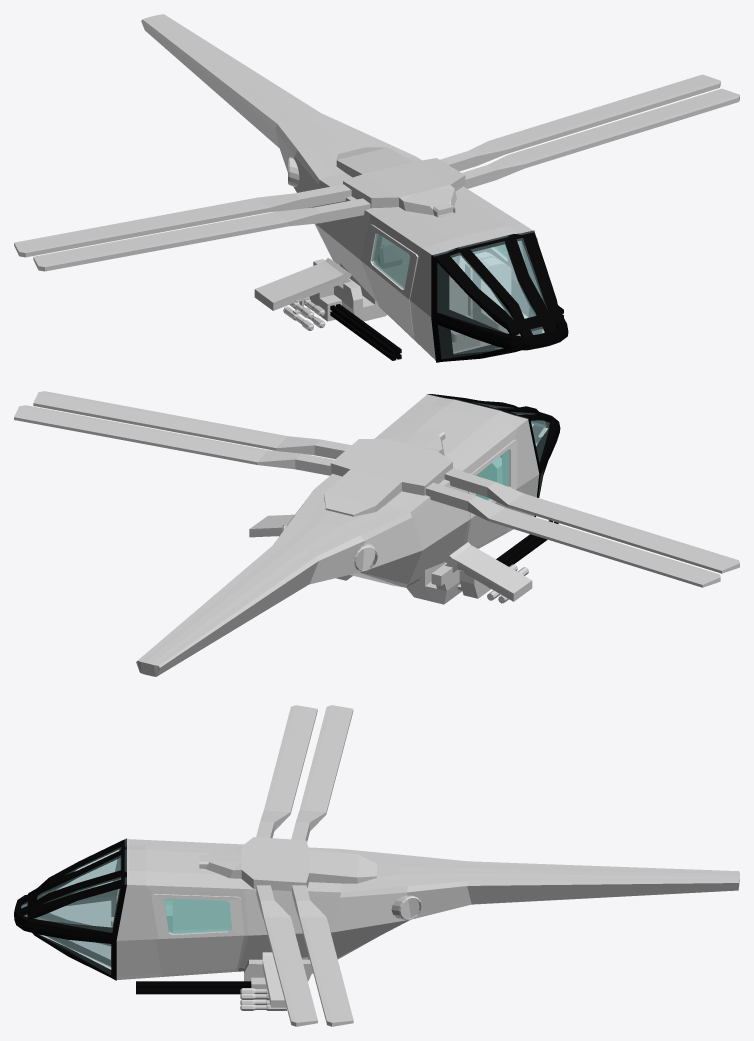
The model's file is dragonflymodern (1) 1.fbx.
The picture shows the model from 3 angles, top to bottom: view 1: azimuth 30°, elevation 25°; view 2: azimuth 150°, elevation 25°; view 3: azimuth 270°, elevation 25°; orthographic projection. The views are drawn at different scales.
Parts seen in each view (by area): view 1: Cube.041, cockpitframe, Cube.058, cockpit, backblade.001, forwardblade.001, forwardblade, backblade, Cube.016, door_right, Cube.053, barrel.001 (+2 smaller); view 2: Cube.041, Cube.058, backblade.001, forwardblade.001, backblade, forwardblade, Cube.016, cockpitframe, door_right, Cube.060, barrel.001, cockpit (+1 smaller); view 3: Cube.041, cockpitframe, Cube.058, door_left, cockpit, forwardblade, backblade, backblade.001, forwardblade.001, Cube.059, door_right, barrel (+1 smaller).
Boxes of the visible parts, left/top/right/bottom form: Cube.041: left=141, top=14, right=532, bottom=359; cockpitframe: left=431, top=230, right=568, bottom=362; Cube.058: left=336, top=147, right=465, bottom=217; cockpit: left=433, top=231, right=545, bottom=358; backblade.001: left=14, top=184, right=351, bottom=257; forwardblade.001: left=33, top=198, right=372, bottom=271; forwardblade: left=462, top=88, right=739, bottom=188; backblade: left=440, top=74, right=720, bottom=171; Cube.016: left=254, top=237, right=537, bottom=321; door_right: left=363, top=224, right=418, bottom=335; Cube.053: left=472, top=257, right=527, bottom=335; barrel.001: left=330, top=304, right=401, bottom=360; Cube.041: left=136, top=394, right=539, bottom=676; Cube.058: left=324, top=428, right=452, bottom=516; backblade.001: left=425, top=482, right=720, bottom=587; forwardblade.001: left=444, top=468, right=739, bottom=573; backblade: left=14, top=405, right=334, bottom=475; forwardblade: left=33, top=391, right=351, bottom=458; Cube.016: left=249, top=514, right=532, bottom=604; cockpitframe: left=427, top=394, right=560, bottom=516; door_right: left=466, top=439, right=517, bottom=547; Cube.060: left=476, top=449, right=509, bottom=500; barrel.001: left=496, top=520, right=558, bottom=566; cockpit: left=428, top=394, right=549, bottom=497; Cube.041: left=116, top=839, right=739, bottom=979; cockpitframe: left=14, top=838, right=126, bottom=980; Cube.058: left=199, top=837, right=376, bottom=891; door_left: left=151, top=894, right=243, bottom=973; cockpit: left=21, top=839, right=126, bottom=979; forwardblade: left=256, top=885, right=317, bottom=1026; backblade: left=292, top=885, right=353, bottom=1026; backblade.001: left=291, top=705, right=353, bottom=841; forwardblade.001: left=256, top=705, right=317, bottom=838; Cube.059: left=164, top=898, right=231, bottom=933; door_right: left=164, top=898, right=231, bottom=929; barrel: left=136, top=981, right=251, bottom=994.
Size of the model in its own units: 616 by 97.9 by 595.
